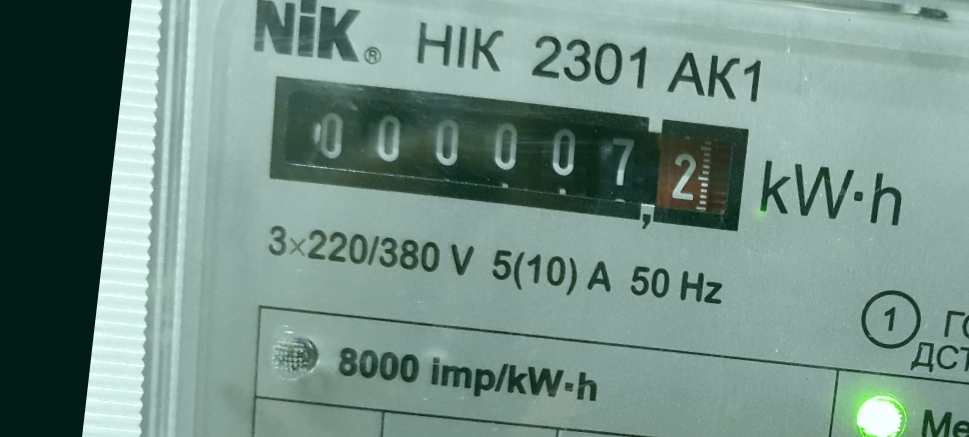0: (369, 109, 409, 164), (429, 113, 466, 169), (487, 117, 524, 173), (545, 124, 582, 180), (313, 107, 350, 161)
2: (666, 149, 702, 203)
7: (603, 132, 638, 189)
screen: (245, 54, 771, 253)
